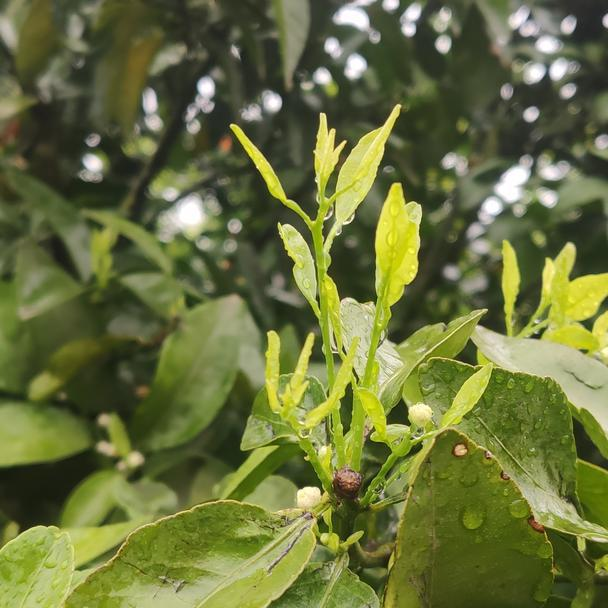shoot: (247, 116, 380, 375), (489, 241, 607, 355), (255, 342, 356, 443), (356, 196, 431, 321)
